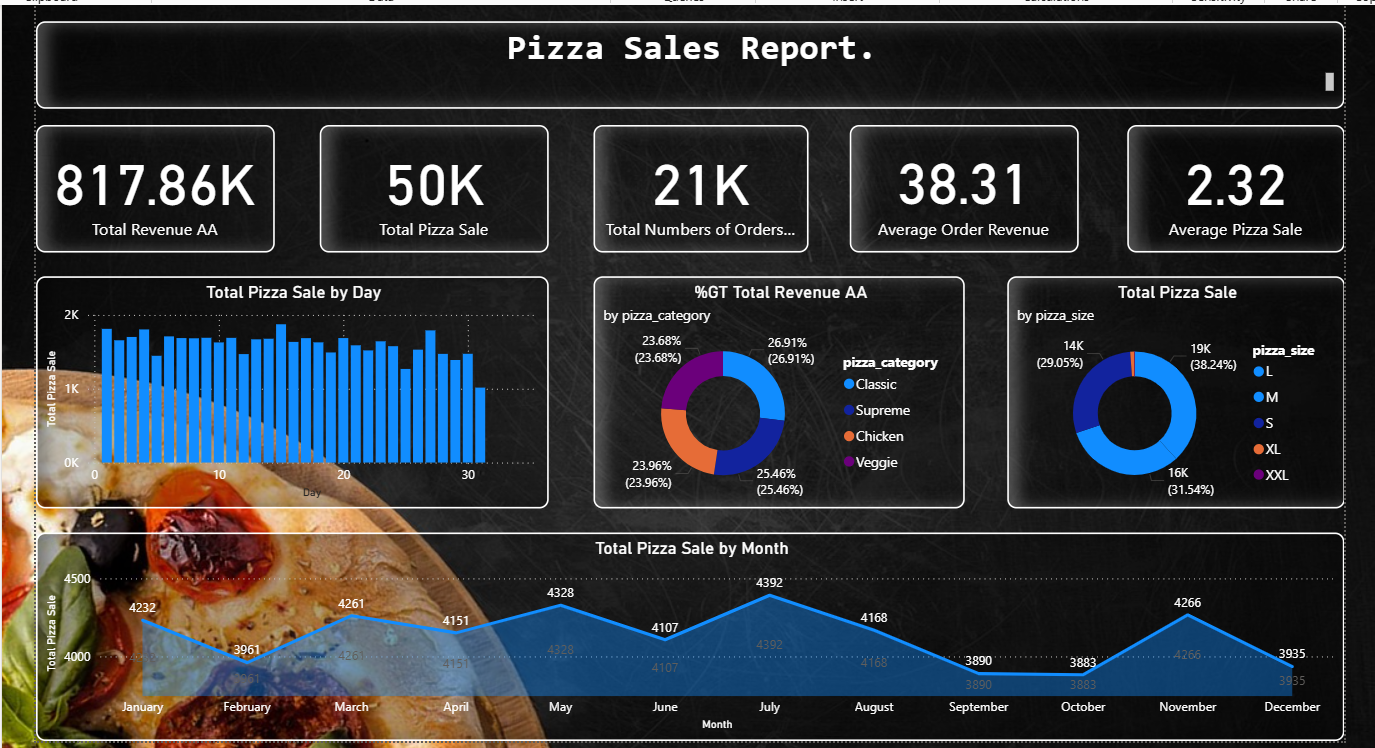

This screenshot's page, from the dashboard's own definition file:
{"tool":"powerbi","page":{"name":"Page 1","canvas":[1280,720],"ordinal":0},"visuals":[{"type":"card","fields":{"Values":["pizza_sales.Total Numbers of Orders-AA"]},"box":[545.4,117.4,210.3,124.7],"z":0},{"type":"card","fields":{"Values":["pizza_sales.Total Pizza Sale"]},"box":[277.6,117.4,223.8,124.7],"z":1000},{"type":"card","fields":{"Values":["pizza_sales.Average Order Revenue"]},"box":[796.1,117.4,223.8,124.7],"z":2000},{"type":"card","fields":{"Values":["pizza_sales.Average Pizza Sale"]},"box":[1067.5,117.4,212.8,124.7],"z":3000},{"type":"card","fields":{"Values":["pizza_sales.Total Revenue AA"]},"box":[0,117.4,233.6,124.7],"z":4000},{"type":"donutChart","fields":{"Category":["pizza_sales.pizza_category"],"Y":["pizza_sales.Total Revenue AA"]},"box":[545.4,265.4,363.2,227.4],"z":5000},{"type":"donutChart","fields":{"Category":["pizza_sales.pizza_size"],"Y":["pizza_sales.Total Pizza Sale"]},"box":[950.1,265.4,330.2,227.4],"z":6000},{"type":"stackedAreaChart","fields":{"Category":["pizza_sales.order_date.Variation.Date Hierarchy.Month"],"Y":["pizza_sales.Total Pizza Sale"]},"box":[0,516,1280.3,204.2],"z":7000},{"type":"clusteredColumnChart","fields":{"Y":["pizza_sales.Total Pizza Sale"],"Category":["pizza_sales.order_date.Variation.Date Hierarchy.Day"]},"box":[0,265.4,501.4,227.4],"z":8000},{"type":"textbox","title":"Pizza Sales Report.","box":[0,15.9,1280.3,85.6],"z":9000}]}

Visuals, with their boxes in screenshot pixels (x1, y1, x2, y2):
card - pizza_sales.Total Numbers of Orders-AA: pyautogui.locateOnScreen(588, 120, 803, 248)
card - pizza_sales.Total Pizza Sale: pyautogui.locateOnScreen(313, 120, 543, 248)
card - pizza_sales.Average Order Revenue: pyautogui.locateOnScreen(845, 120, 1074, 248)
card - pizza_sales.Average Pizza Sale: pyautogui.locateOnScreen(1123, 120, 1341, 248)
card - pizza_sales.Total Revenue AA: pyautogui.locateOnScreen(29, 120, 268, 248)
donutChart - pizza_sales.pizza_category x pizza_sales.Total Revenue AA: pyautogui.locateOnScreen(588, 272, 960, 505)
donutChart - pizza_sales.pizza_size x pizza_sales.Total Pizza Sale: pyautogui.locateOnScreen(1003, 272, 1341, 505)
stackedAreaChart - pizza_sales.order_date.Variation.Date Hierarchy.Month x pizza_sales.Total Pizza Sale: pyautogui.locateOnScreen(29, 529, 1341, 738)
clusteredColumnChart - pizza_sales.Total Pizza Sale x pizza_sales.order_date.Variation.Date Hierarchy.Day: pyautogui.locateOnScreen(29, 272, 543, 505)
"Pizza Sales Report." textbox: pyautogui.locateOnScreen(29, 16, 1341, 104)
